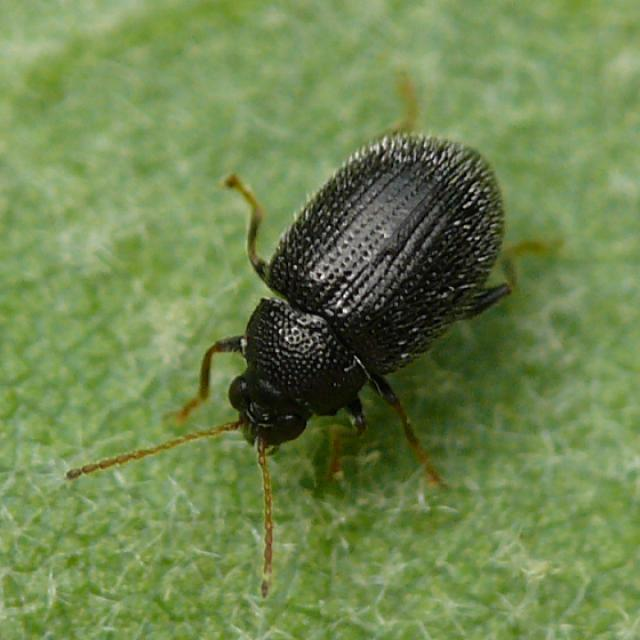flea_beetle: (44, 67, 527, 591)
